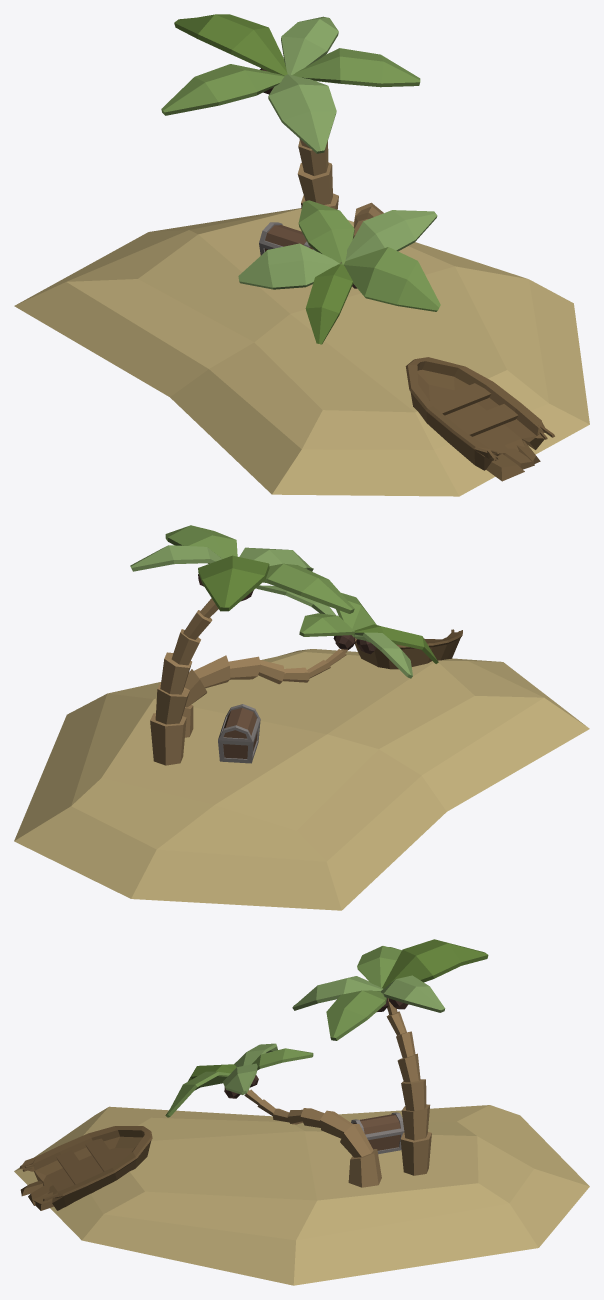
Rendered from Island_big.fbx.
3 renders of one model, top to bottom at view 1: azimuth 30°, elevation 25°; view 2: azimuth 150°, elevation 25°; view 3: azimuth 270°, elevation 25°, orthographic. The views are drawn at different scales.
Visible parts, largest first — view 1: Insel_groß; view 2: Insel_groß; view 3: Insel_groß.
Part boxes in pixels (<box>): Insel_groß: <box>14,14,589,496</box>; Insel_groß: <box>14,525,589,910</box>; Insel_groß: <box>14,939,589,1285</box>.
Size of the model in its own units: 1319 by 852 by 1885.
